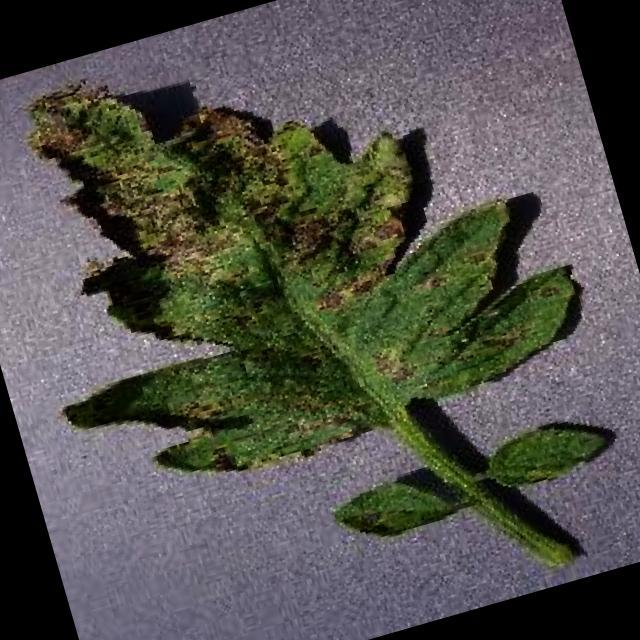Tomato Septoria spot leaf: (0, 0, 603, 517)
